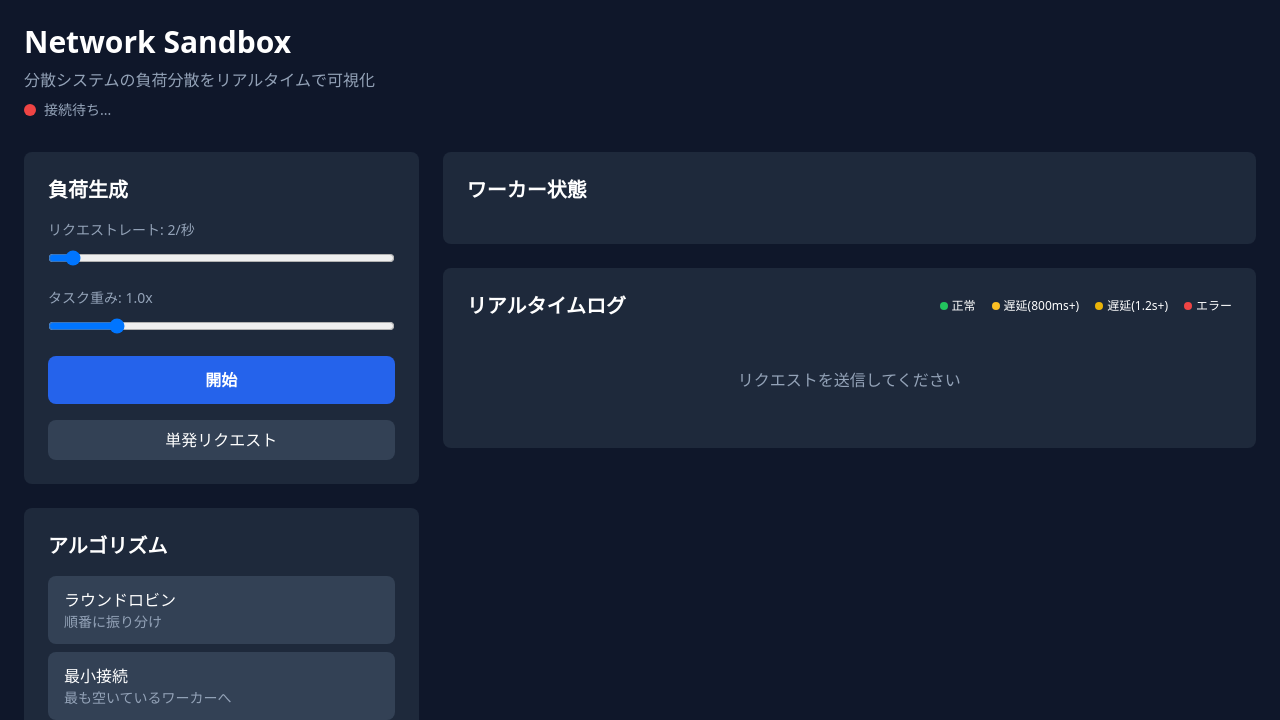
Test: App Component › Load Generator Controls › should stop load generation when stop button is clicked
This screenshot has width=1280, height=720.
Click the button "開始".
click(221, 380)  # box [48,356,395,404]
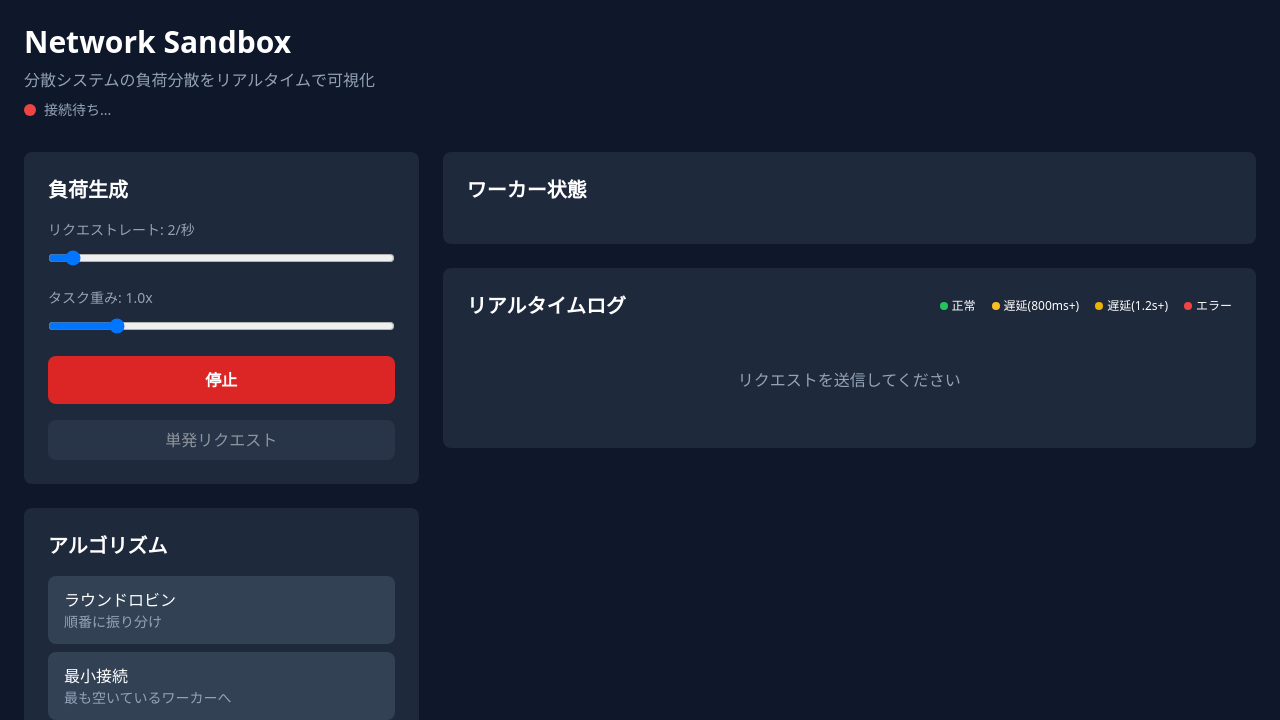
Click the button "停止".
click(221, 380)  # box [48,356,395,404]
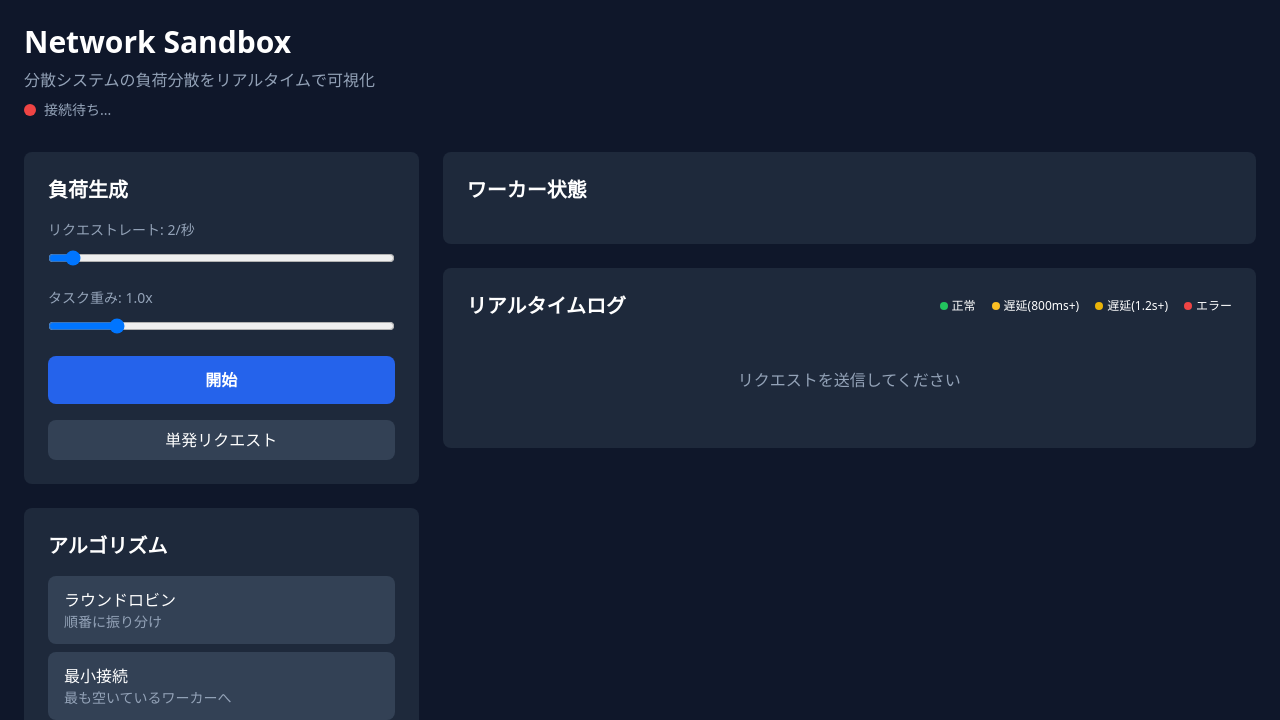
Now the button "開始" is shown, box [48,356,395,404]
